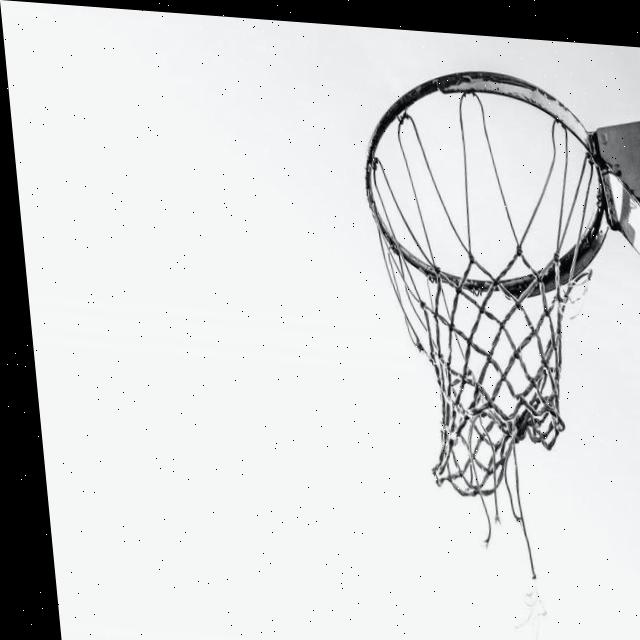hoop: (354, 61, 640, 588)
